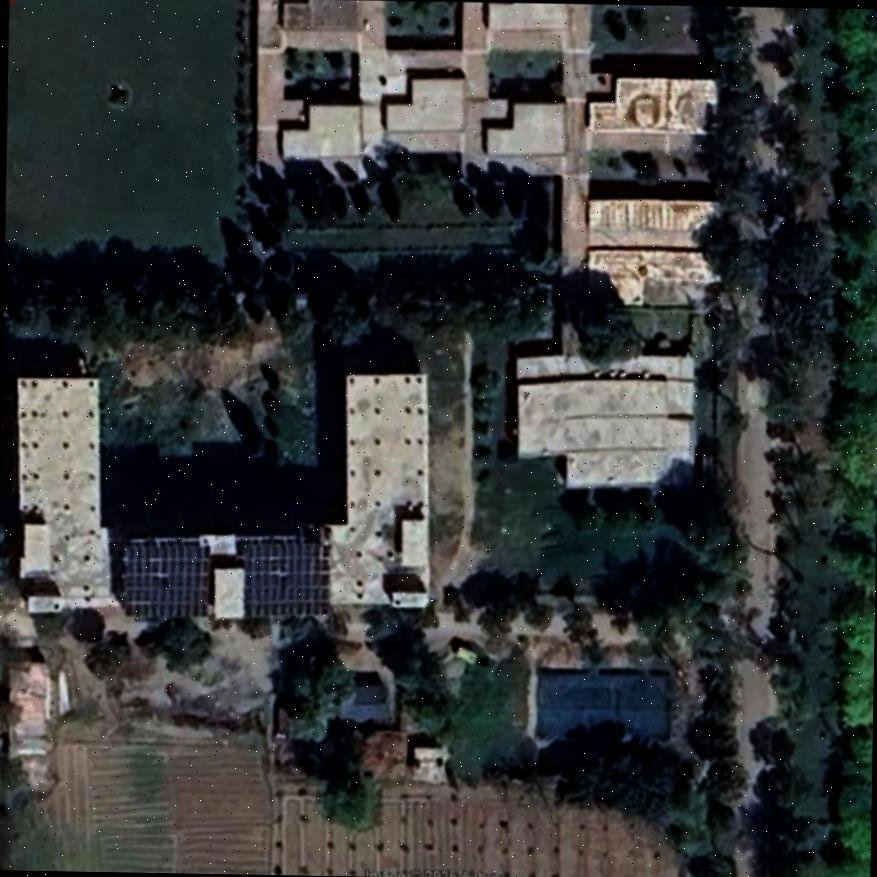Solarpanel: (242, 535, 330, 614), (121, 543, 213, 618)
